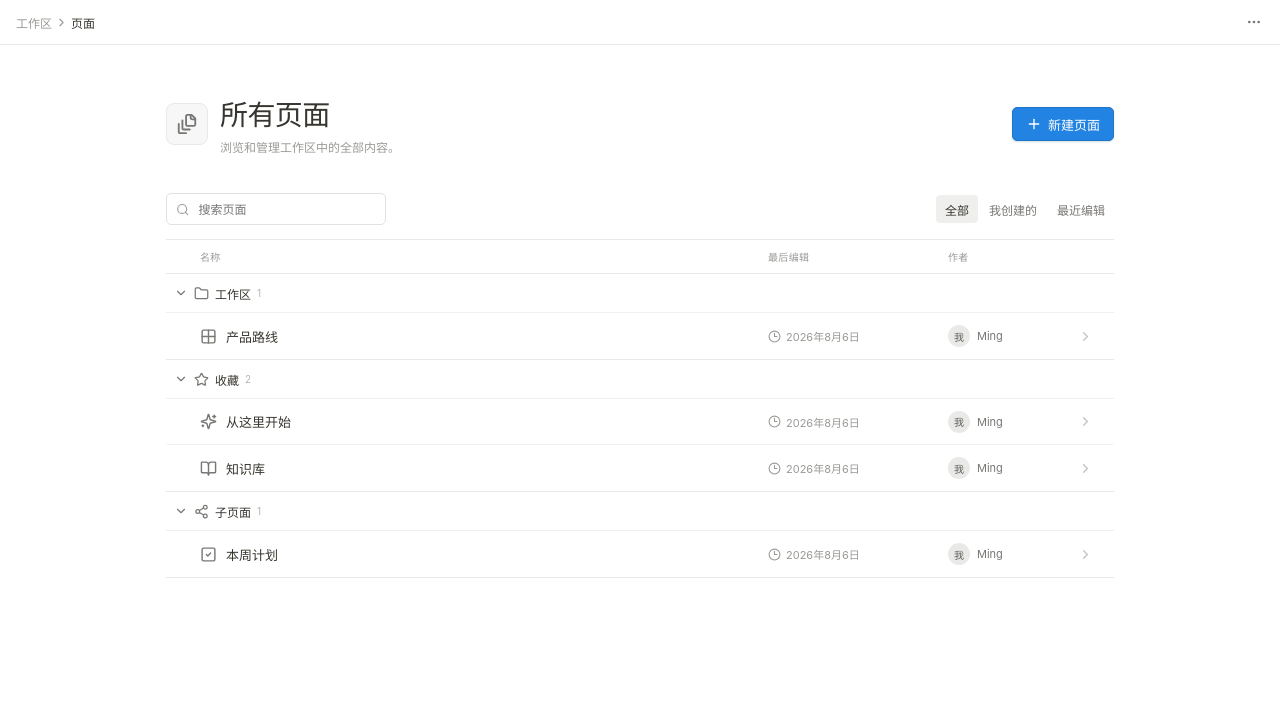
Test: WorkspacePageList › closes the action menu outside and renders one search empty state
The width and height of the screenshot is (1280, 720).
Click the button named "页面列表操作".
click(1254, 22)  # box [1240,8,1268,36]
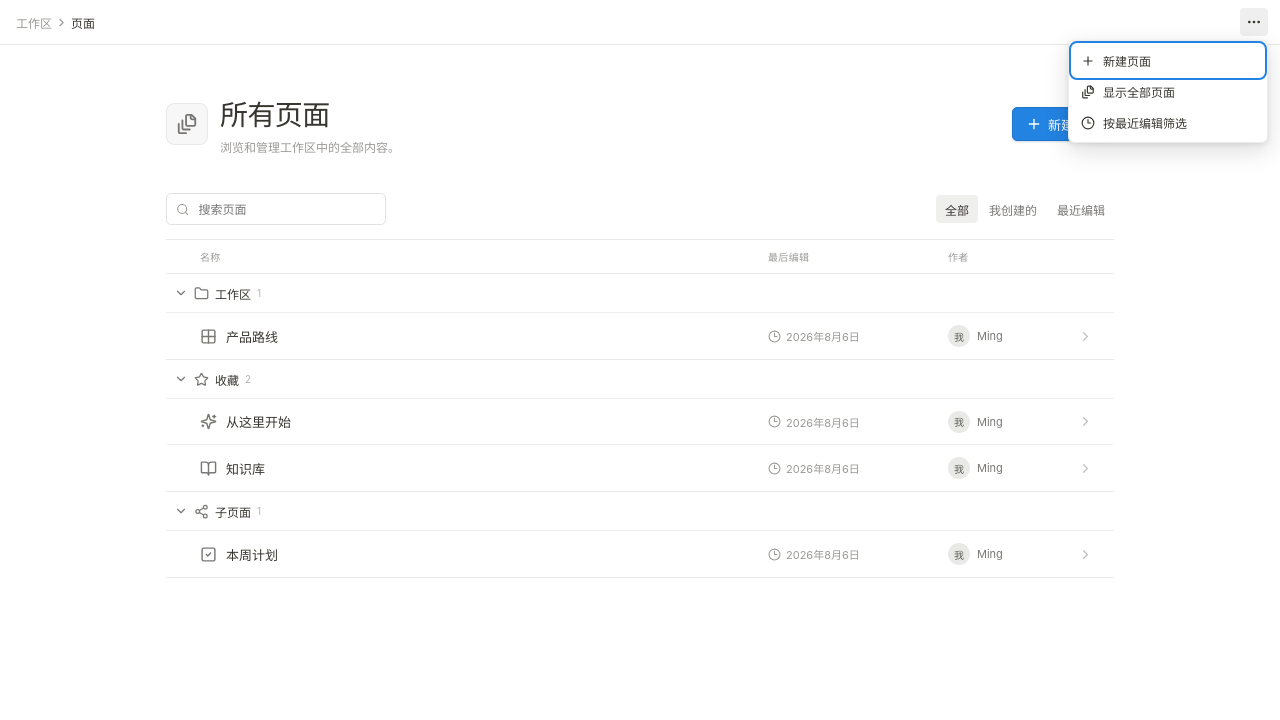
expect the menu is shown: met, box [1068,40,1268,143]
Press the mouse on the element that starts with "工作区" at (640, 329), box [0,0,1279,658]
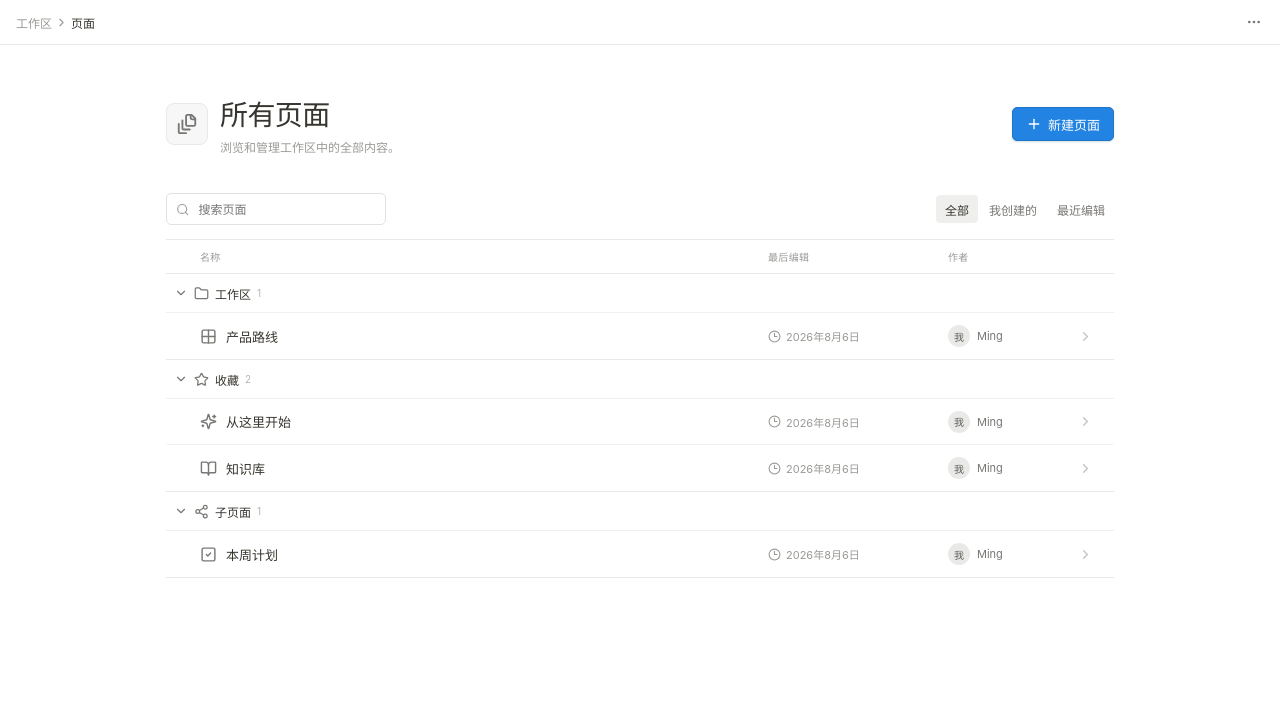
expect the menu is gone: met
Click the button named "页面列表操作".
click(1254, 22)  # box [1240,8,1268,36]
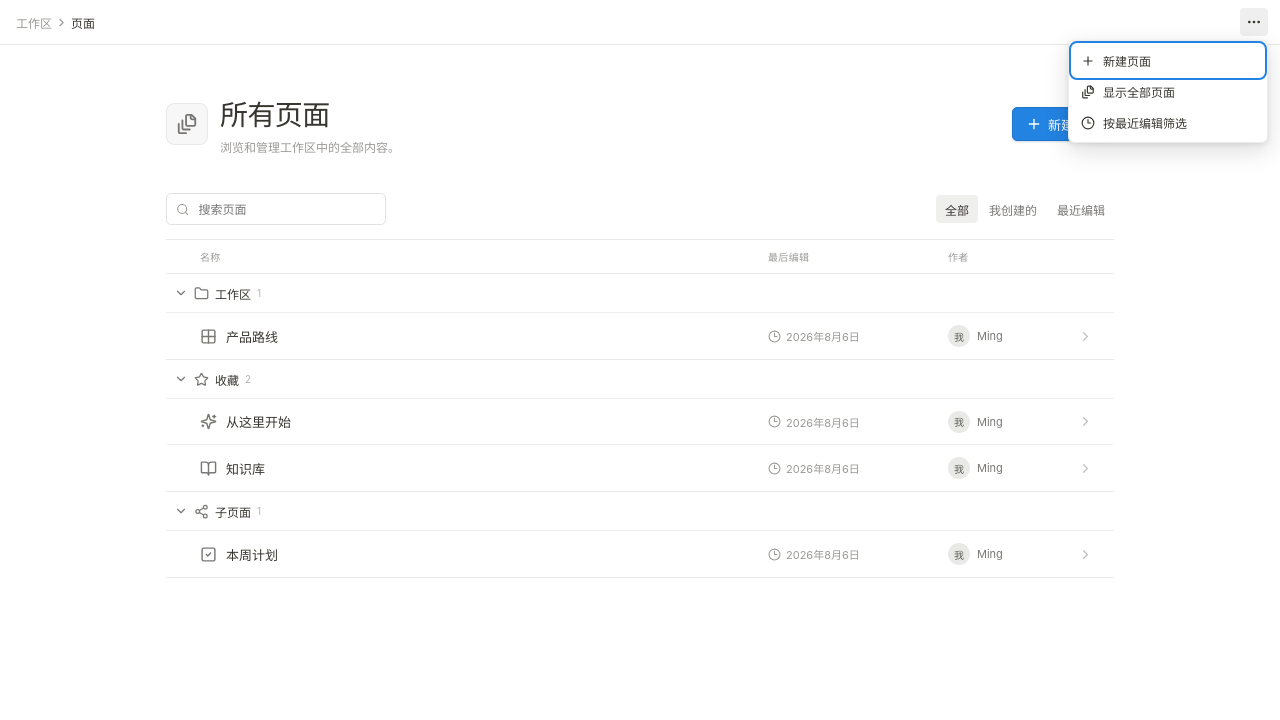
Press Escape
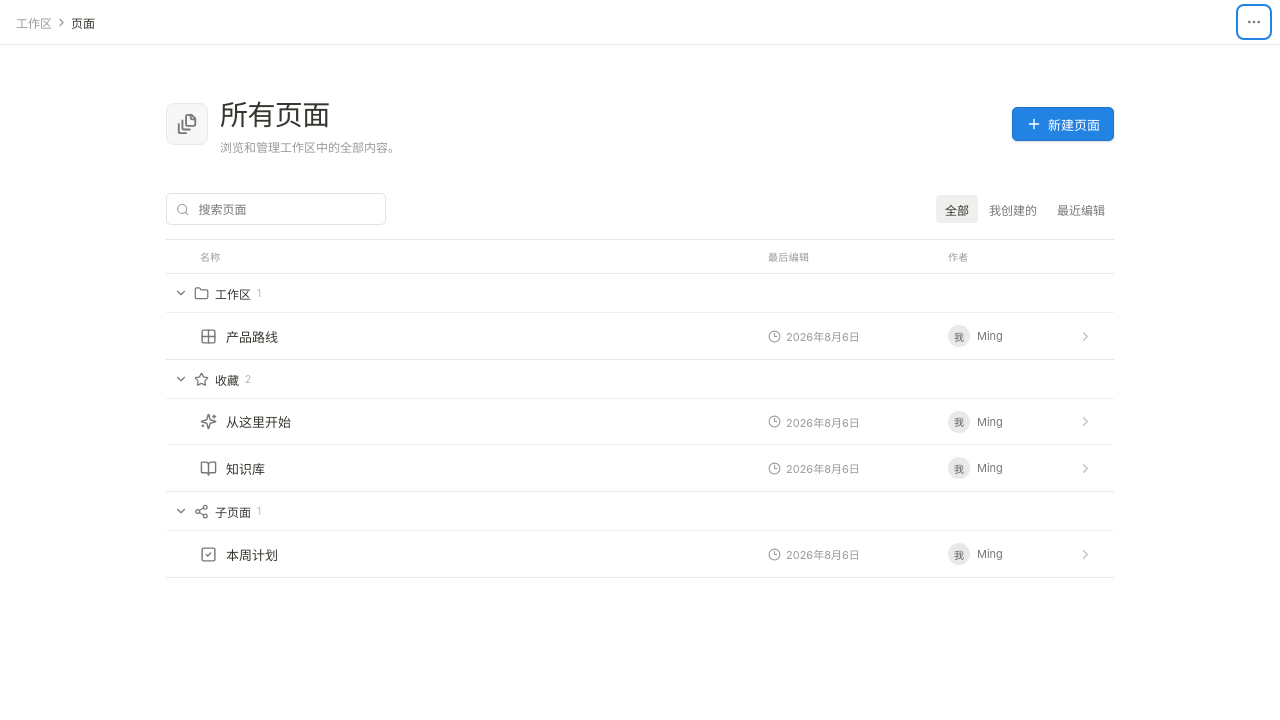
expect the menu is gone: met
Type "不存在的页面" into the field named "搜索所有页面".
click(286, 209); type("不存在的页面")  # box [196,200,376,218]
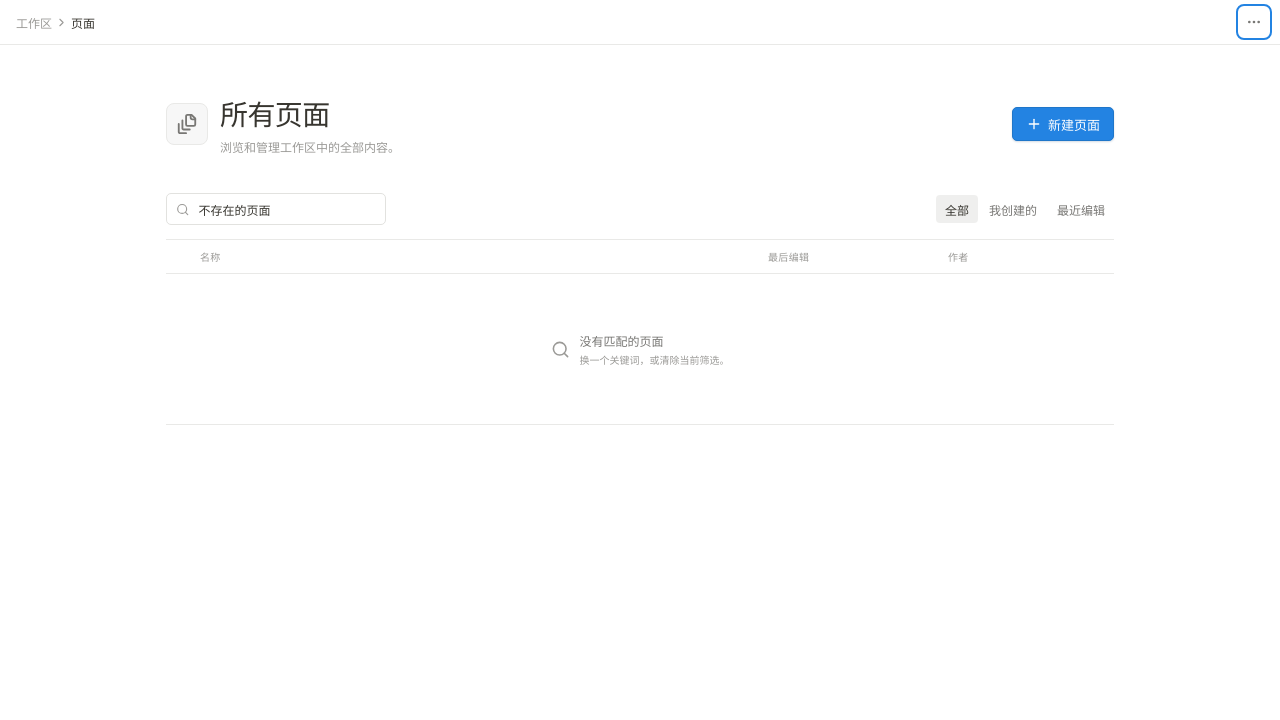
expect the message shows "没有匹配的页面": met, box [580,334,664,348]
